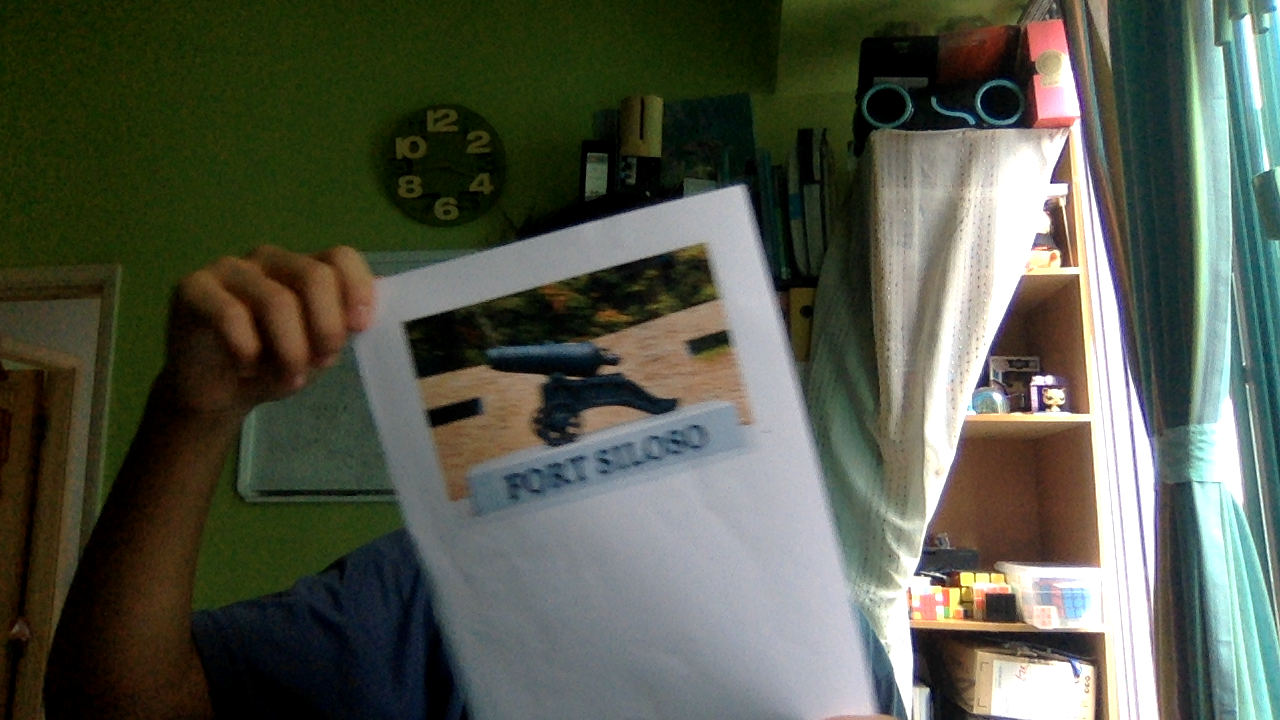siloso: (447, 285, 753, 510)
